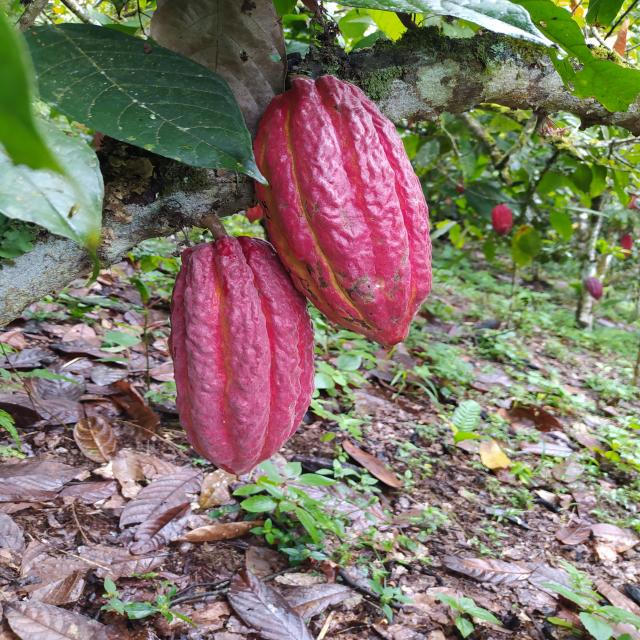Sana: (256, 75, 434, 350), (168, 236, 315, 478), (490, 204, 514, 237), (582, 276, 605, 300)
